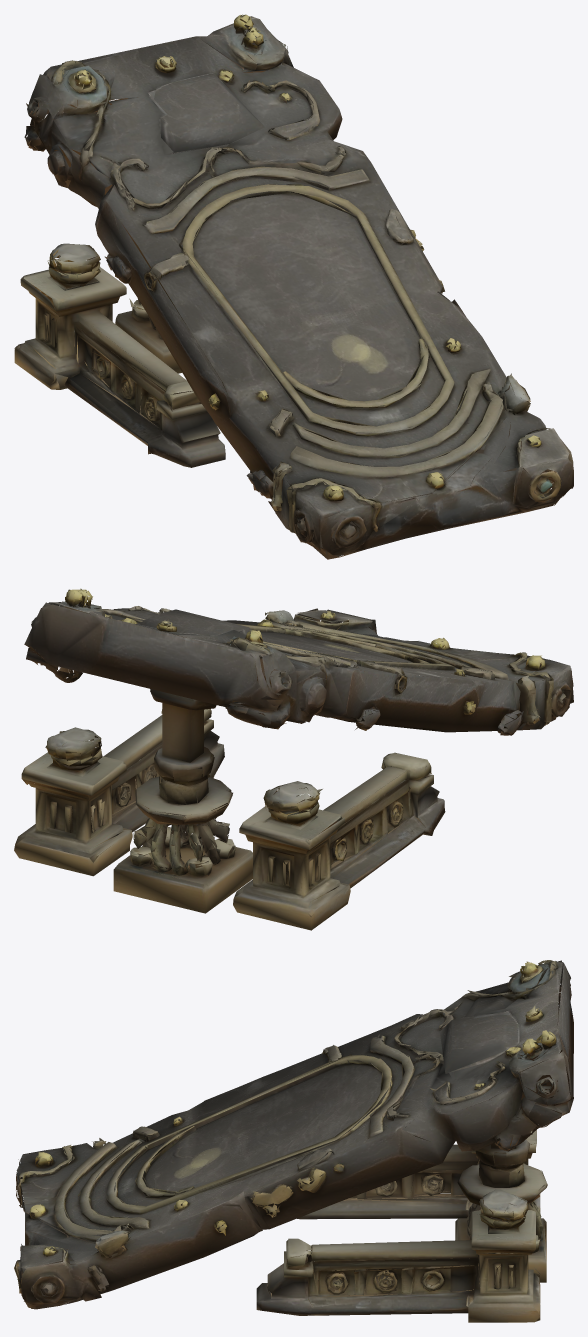
Rendered from ch3_fallen_bridge_deck_chunk_LOD1.glb.
3 views of the same model, one above another, from view 1: azimuth 30°, elevation 25°; view 2: azimuth 150°, elevation 25°; view 3: azimuth 270°, elevation 25° (orthographic). The views are drawn at different scales.
Visible parts, largest first — view 1: tripo_node_387b3207-5552-40fd-9a3f-8211c666c408; view 2: tripo_node_387b3207-5552-40fd-9a3f-8211c666c408; view 3: tripo_node_387b3207-5552-40fd-9a3f-8211c666c408.
Boxes of the visible parts, x1,y1,x2,y2 form: tripo_node_387b3207-5552-40fd-9a3f-8211c666c408: [14, 14, 573, 559]; tripo_node_387b3207-5552-40fd-9a3f-8211c666c408: [14, 588, 573, 930]; tripo_node_387b3207-5552-40fd-9a3f-8211c666c408: [14, 960, 573, 1322].
Bounding box in the file's own units: 0.5645 × 0.5293 × 1.
Materials: 1 (1 with a texture image).
